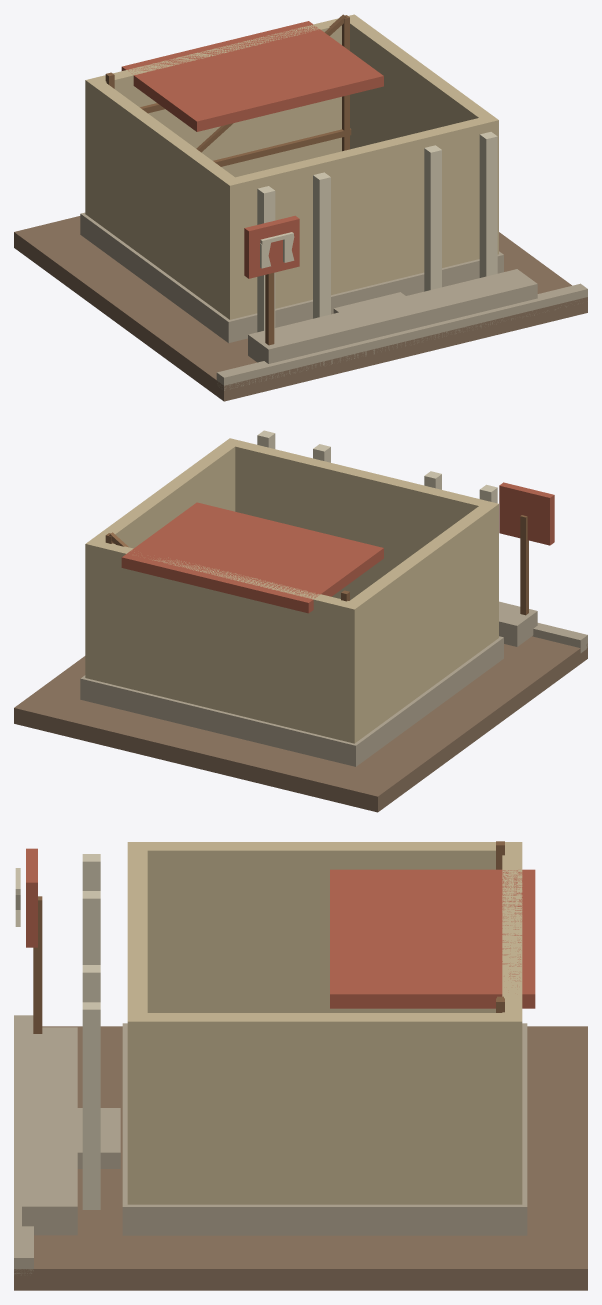
The model's file is theatre-half-built.glb.
3 views of the same model, one above another, from view 1: azimuth 30°, elevation 25°; view 2: azimuth 150°, elevation 25°; view 3: azimuth 270°, elevation 25° (orthographic). The views are drawn at different scales.
Parts seen in each view (by area): view 1: theatre; view 2: theatre; view 3: theatre.
Boxes of the visible parts, bbox=[...] form: theatre: bbox=[14, 14, 587, 401]; theatre: bbox=[14, 430, 587, 812]; theatre: bbox=[14, 841, 587, 1290].
Size of the model in its own units: 2.88 by 1.38 by 2.88.
